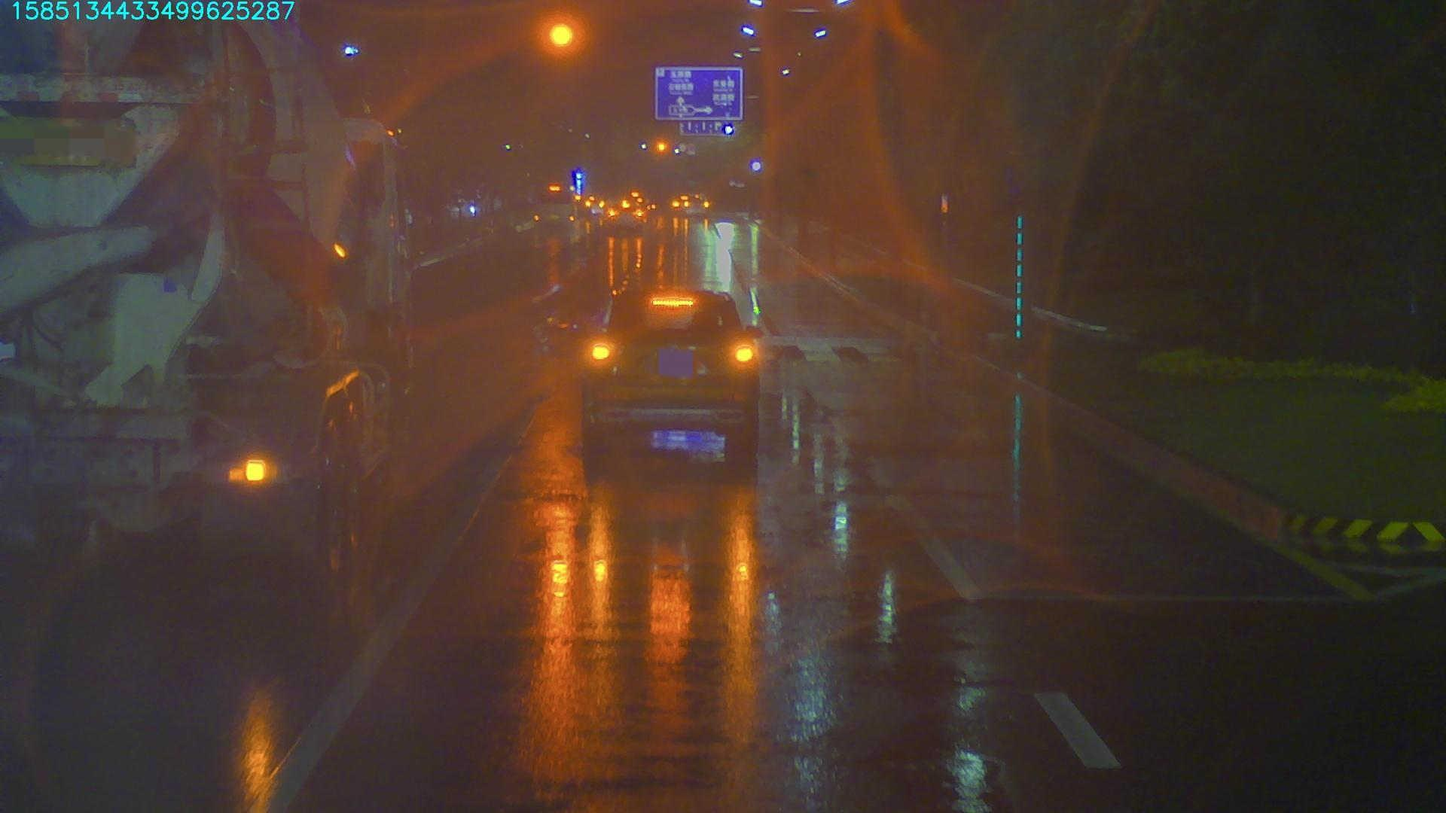red: (531, 11, 584, 58)
